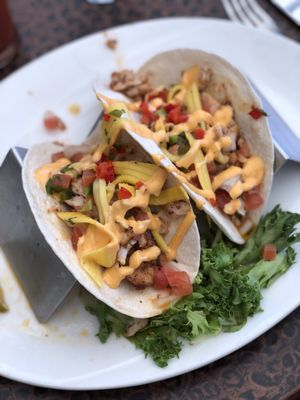curry: (94, 135, 300, 371), (94, 204, 300, 368)
sushi: (27, 43, 300, 374)
